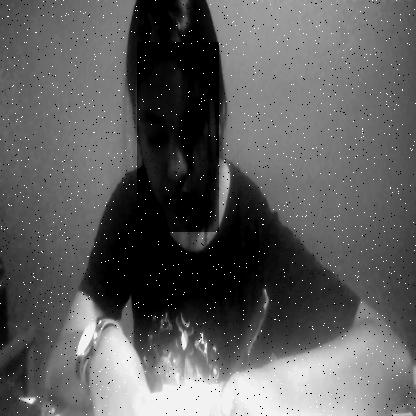Normal: (137, 42, 219, 232)
